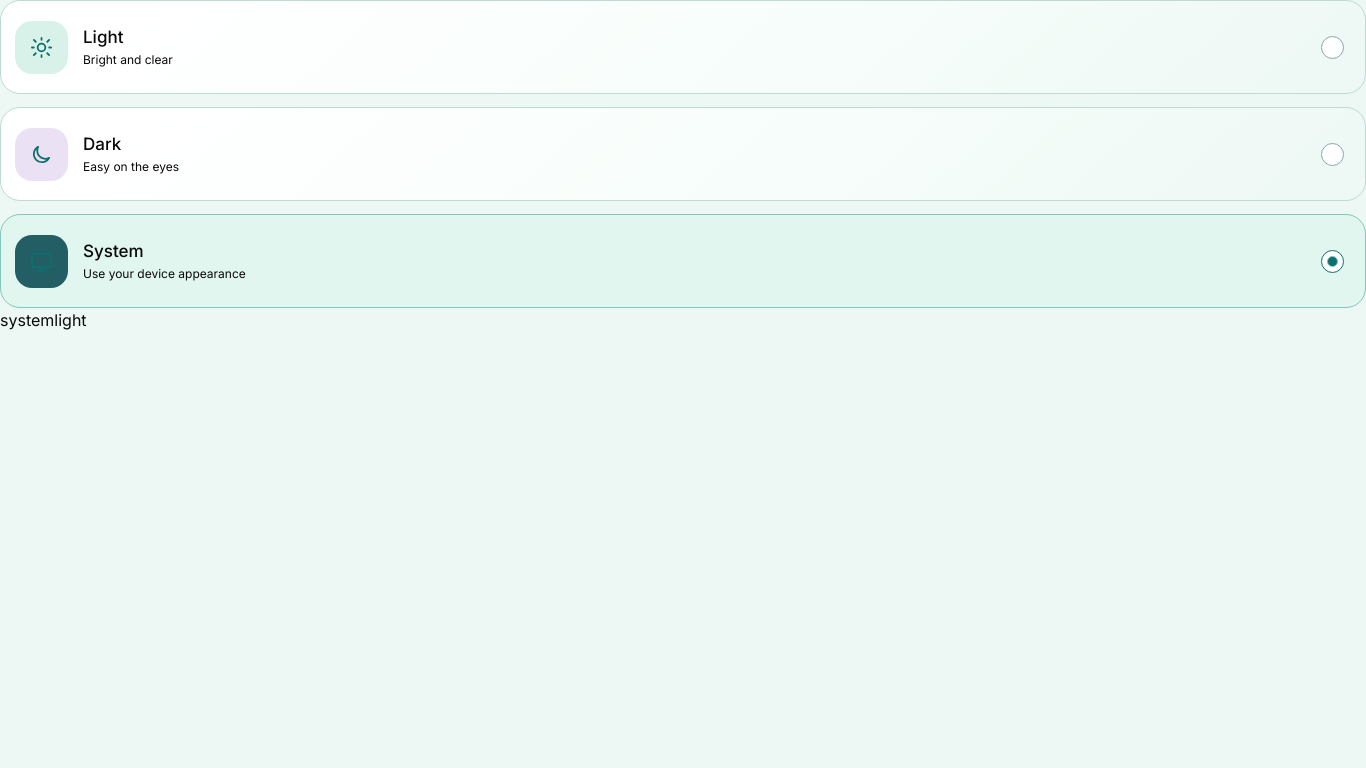
Test: theme selection › selects Dark and persists the explicit preference
Click the radio button labelled "Dark".
click(42, 154)  # box top-left (0, 107), bottom-right (1365, 201)
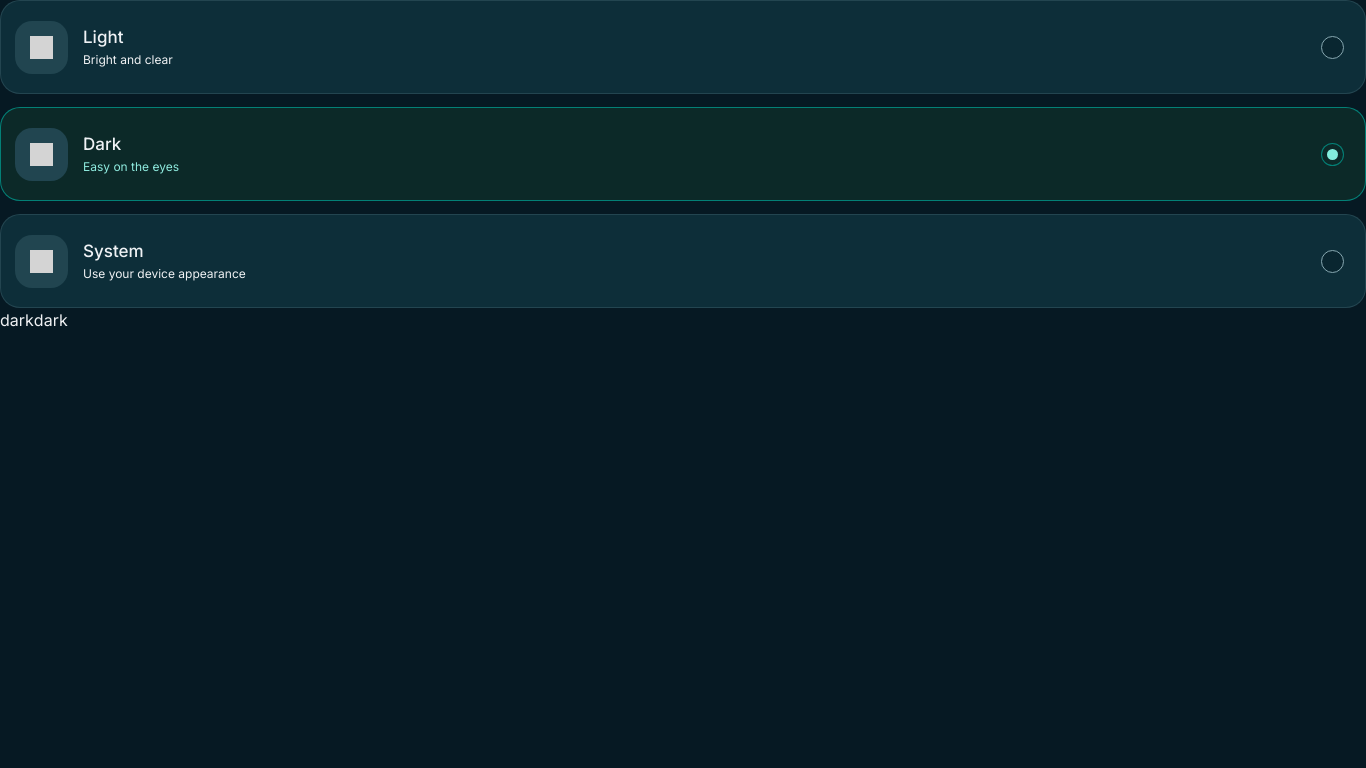
Expected: the text "Dark" is shown, top-left (83, 134), bottom-right (121, 154)
Expected: the radio button labelled "Dark" is checked, top-left (0, 107), bottom-right (1365, 201)
Expected: the text with test id "resolved-theme" reads "dark", top-left (34, 310), bottom-right (68, 330)
